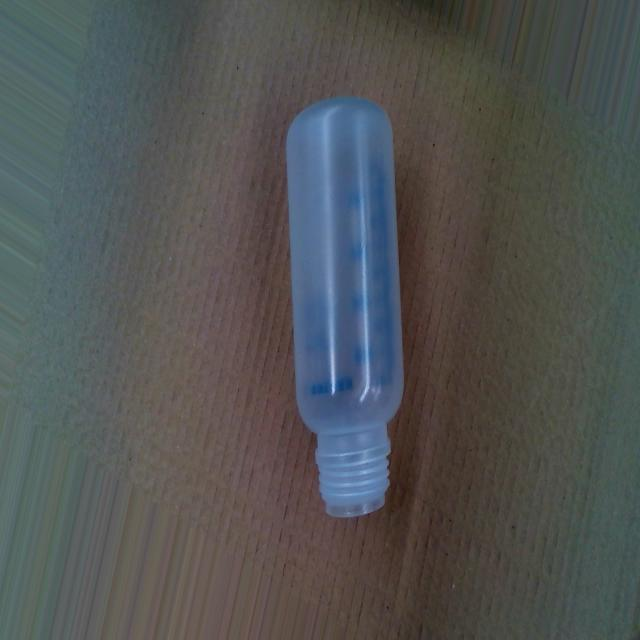bottle: (284, 91, 405, 516)
